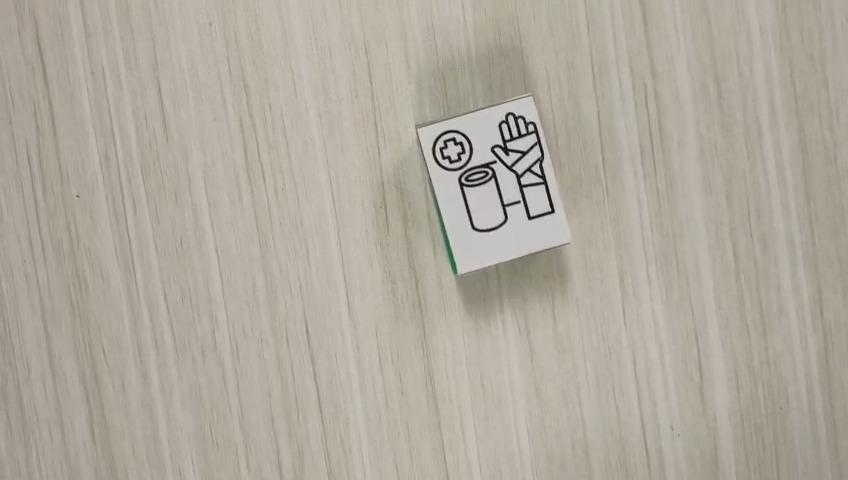Bandages: (414, 92, 572, 275)
